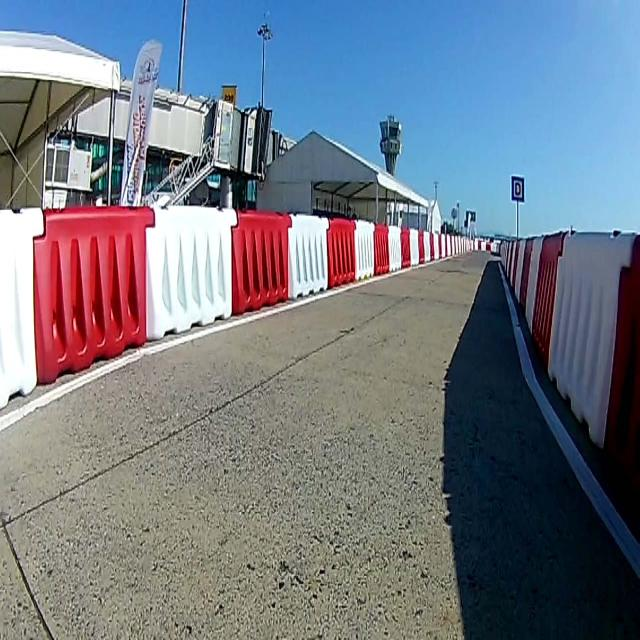durak: (511, 171, 525, 202)
